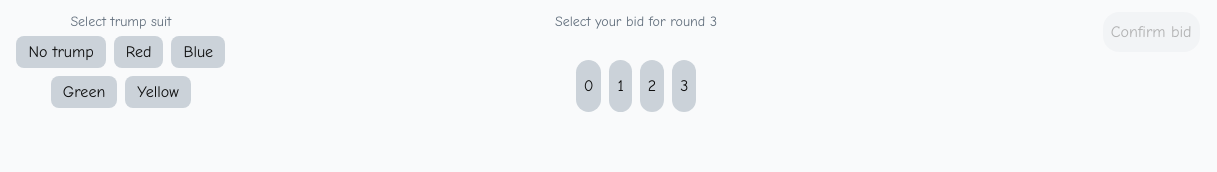
it: BidSelectionPresenter › Submit Button Behavior › enables confirm button when both bid and suit selected
Click the button "1" at point(621, 86), box top-left (610, 60), bottom-right (632, 112)
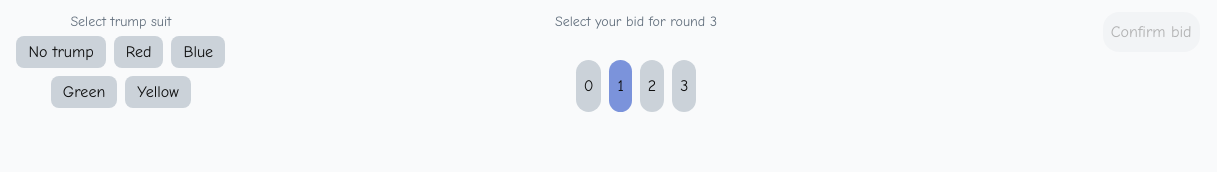
Click the button "Red" at point(138, 52), box top-left (114, 36), bottom-right (163, 68)
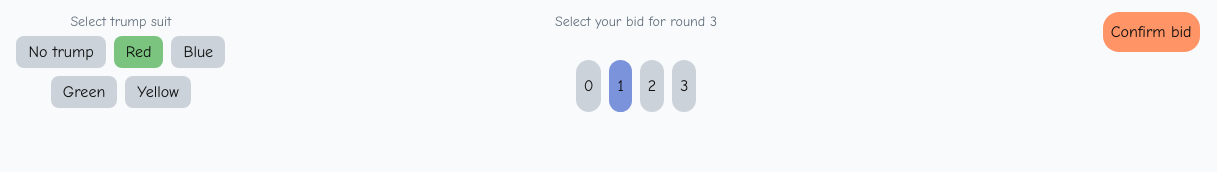
Result: the button "Confirm bid" is enabled at top-left (1103, 12), bottom-right (1200, 52)
